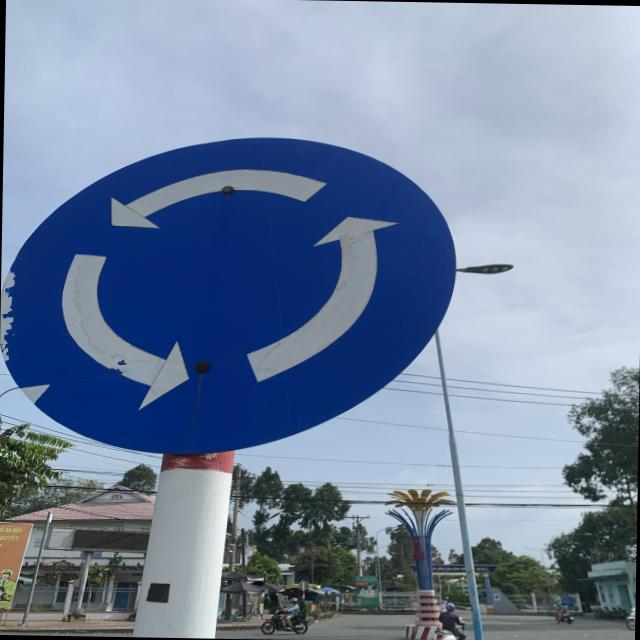Xe_Bus: (0, 132, 455, 462)
